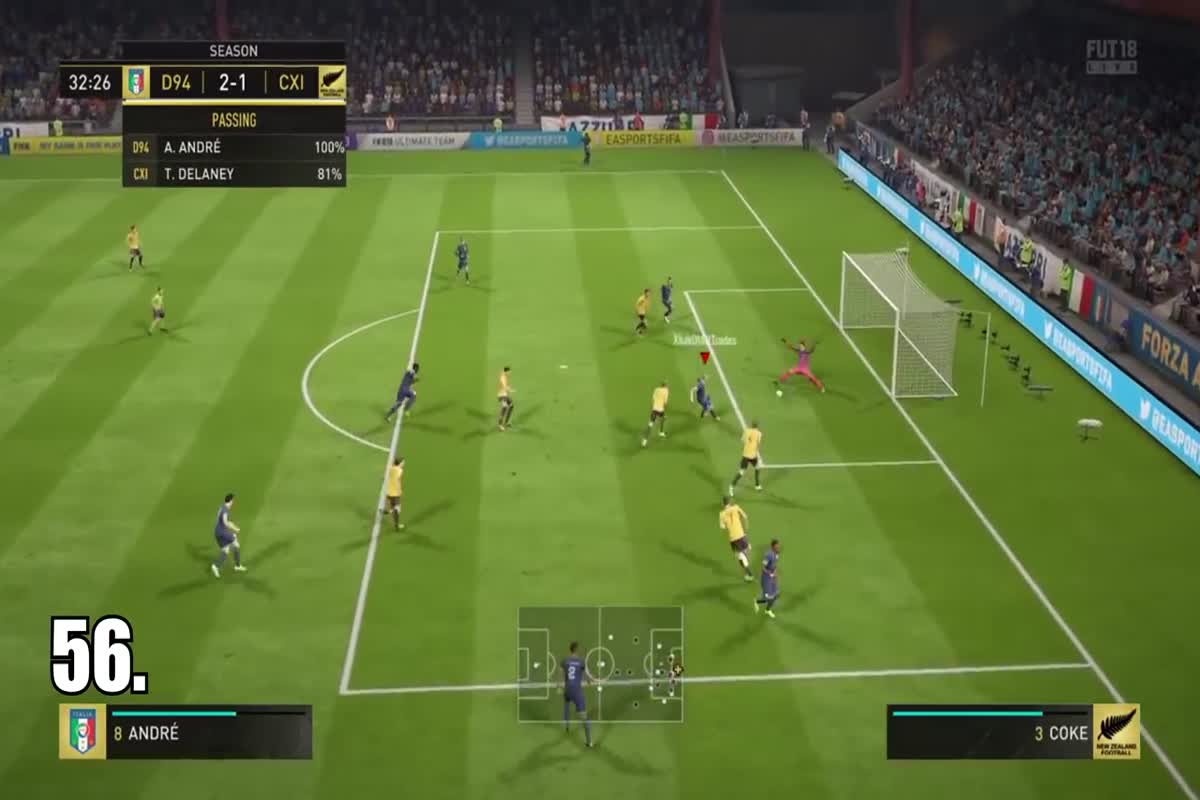ball: (767, 386, 796, 401)
